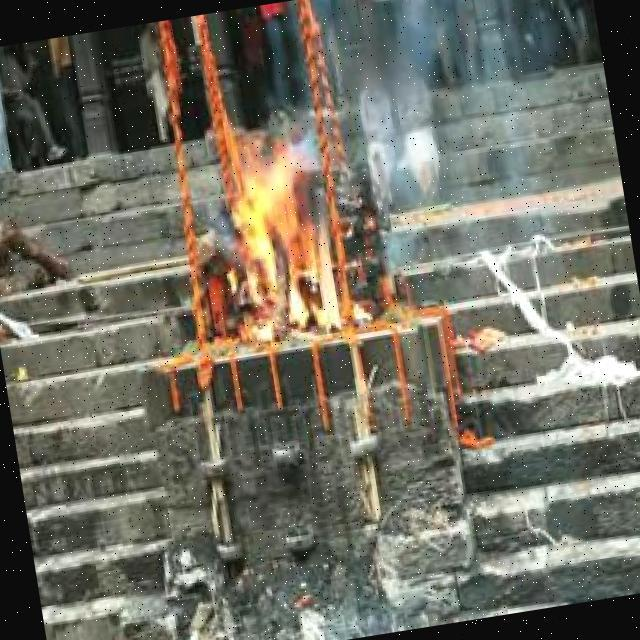Fire: (225, 137, 350, 338)
